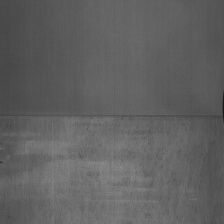welding_line: (1, 108, 224, 126)
